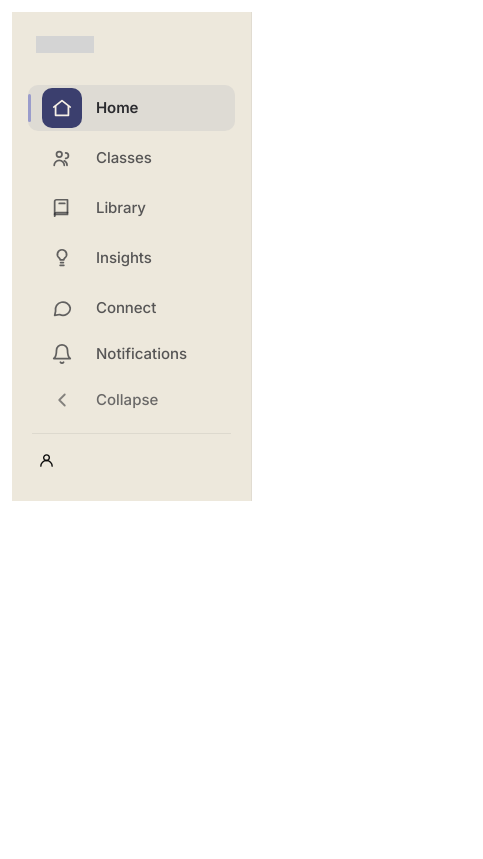
Scenario: its header › is not drawn at all when nothing is known, rather than drawn empty
The width and height of the screenshot is (483, 859).
Click the button named "Account menu".
click(132, 460)  # box [28,444,235,477]
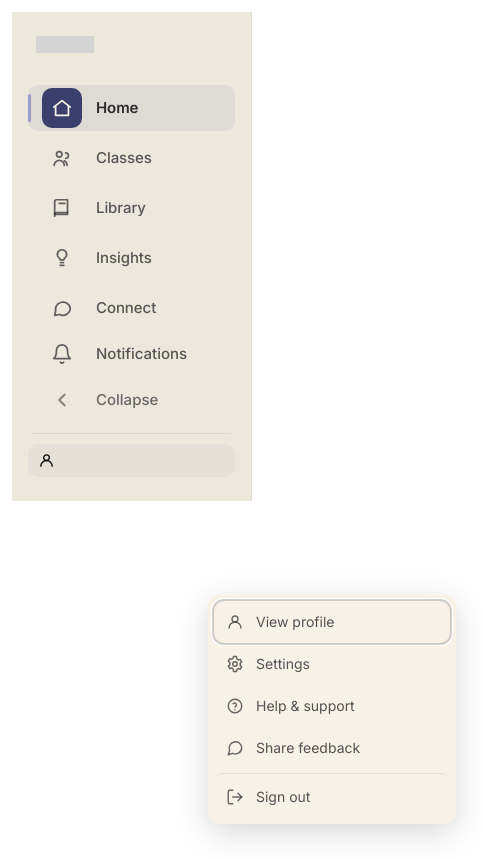
Now the number of menu items is 5, box [226,613,334,631]; [226,655,310,673]; [226,697,355,715]; [214,727,450,769]; [214,773,450,818]
